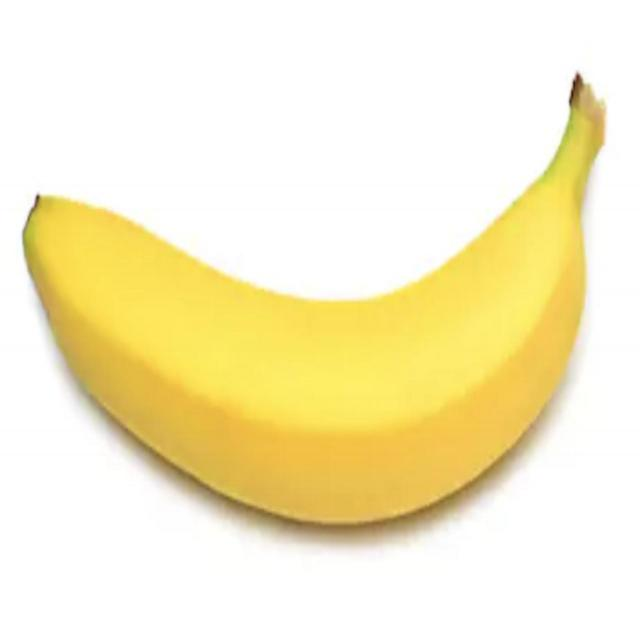banana: (0, 45, 638, 622)
